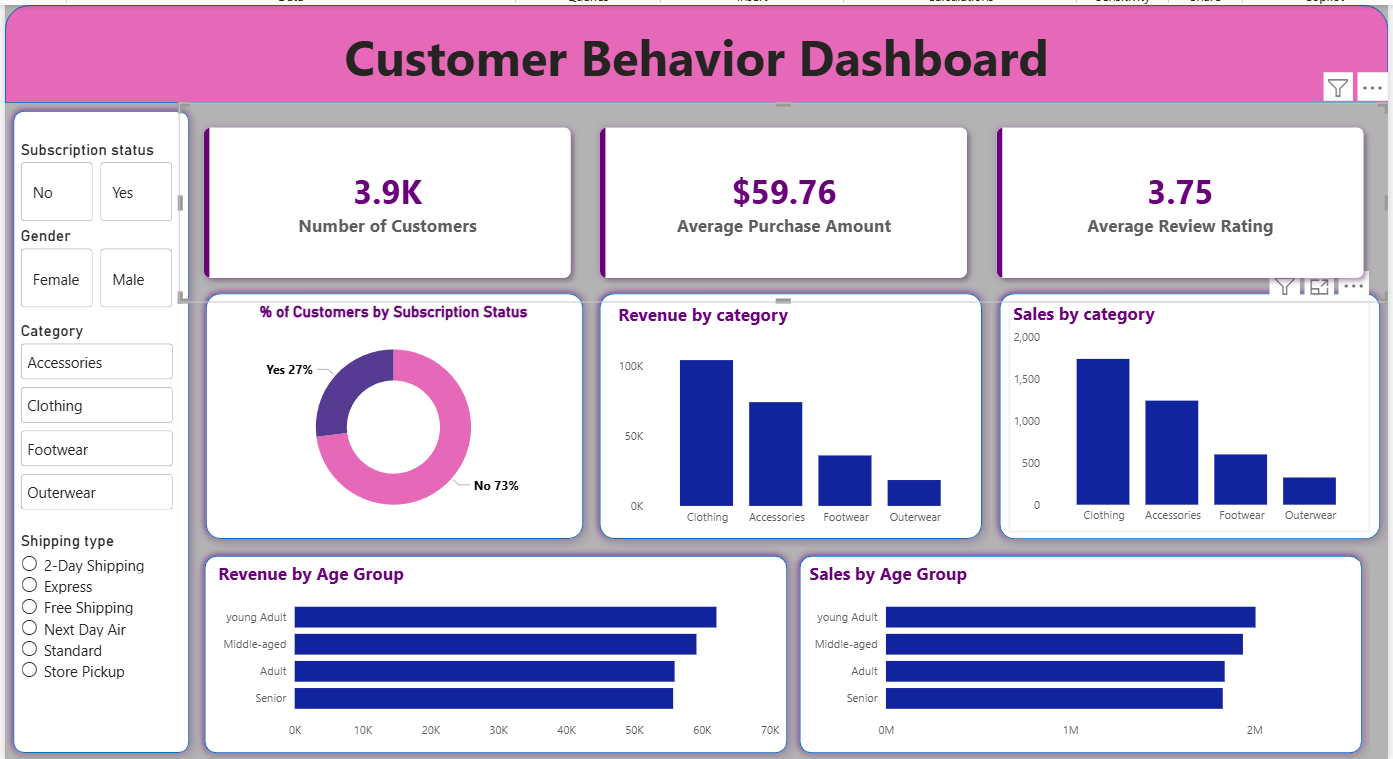

What the dashboard file says about the page in this screenshot:
{"tool":"powerbi","page":{"name":"Page 1","canvas":[1500,820],"ordinal":0},"visuals":[{"type":"cardVisual","fields":{"Data":["public customer.Number of Customers","public customer.Average Purchase Amount","public customer.Average Review Rating"]},"box":[188.2,105.8,1312.2,217.1],"z":0},{"type":"shape","box":[0,0,1500.3,106.1],"z":1000},{"type":"textbox","box":[0,14.5,1500.3,91.7],"z":2000},{"type":"shape","box":[208.8,303.7,427.3,284.4],"z":3000},{"type":"donutChart","title":"% of Customers by Subscription Status","fields":{"Category":["public customer.subscription_status"],"Y":["CountNonNull(public customer.customer_id)"]},"box":[226.7,322.9,390.2,251.4],"z":4000},{"type":"shape","box":[636.2,303.7,432.8,284.4],"z":5000},{"type":"shape","box":[1069.4,303.9,431,284.6],"z":6000},{"type":"clusteredColumnChart","title":"Revenue by category","fields":{"Y":["Sum(public customer.purchase_amount)"],"Category":["public customer.category"]},"box":[660.9,323.2,392.4,250.9],"z":7000},{"type":"clusteredColumnChart","title":"Sales by category","fields":{"Category":["public customer.category"],"Y":["CountNonNull(public customer.customer_id)"]},"box":[1088.7,321.6,392.4,250.9],"z":8000},{"type":"shape","box":[0,105.8,208.8,714.5],"z":9000},{"type":"advancedSlicerVisual","fields":{"Values":["public customer.subscription_status"]},"box":[12.4,147,175.9,93.4],"z":10000},{"type":"advancedSlicerVisual","fields":{"Values":["public customer.gender"]},"box":[12.4,240.5,175.9,93.4],"z":11000},{"type":"advancedSlicerVisual","fields":{"Values":["public customer.category"]},"box":[12.4,343.5,175.9,211.6],"z":12000},{"type":"listSlicer","fields":{"Values":["public customer.shipping_type"]},"box":[12.4,570.2,166.3,218.5],"z":13000},{"type":"shape","box":[207.5,588.1,649.9,232.2],"z":14000},{"type":"clusteredBarChart","title":"Revenue by Age Group","fields":{"Category":["public customer.age_group"],"Y":["Sum(public customer.purchase_amount)"]},"box":[226.7,603.2,618.3,202],"z":15000},{"type":"shape","box":[853.3,588.1,627.9,232.2],"z":16000},{"type":"clusteredBarChart","title":"Sales by Age Group","fields":{"Category":["public customer.age_group"],"Y":["Sum(public customer.customer_id)"]},"box":[868.4,603.2,601.8,202],"z":17000}]}

Visuals, with their boxes on the page's 1500x820 design canvas (x1, y1, x2, y2). These are canvas units, not pixel positions in the 1393x759 screenshot, which may show the page scaled, cropped or inside an application window:
cardVisual - public customer.Number of Customers x public customer.Average Purchase Amount: x1=188 y1=106 x2=1500 y2=323
shape: x1=0 y1=0 x2=1500 y2=106
textbox: x1=0 y1=14 x2=1500 y2=106
shape: x1=209 y1=304 x2=636 y2=588
"% of Customers by Subscription Status" donutChart: x1=227 y1=323 x2=617 y2=574
shape: x1=636 y1=304 x2=1069 y2=588
shape: x1=1069 y1=304 x2=1500 y2=588
"Revenue by category" clusteredColumnChart: x1=661 y1=323 x2=1053 y2=574
"Sales by category" clusteredColumnChart: x1=1089 y1=322 x2=1481 y2=572
shape: x1=0 y1=106 x2=209 y2=820
advancedSlicerVisual - public customer.subscription_status: x1=12 y1=147 x2=188 y2=240
advancedSlicerVisual - public customer.gender: x1=12 y1=240 x2=188 y2=334
advancedSlicerVisual - public customer.category: x1=12 y1=344 x2=188 y2=555
listSlicer - public customer.shipping_type: x1=12 y1=570 x2=179 y2=789
shape: x1=208 y1=588 x2=857 y2=820
"Revenue by Age Group" clusteredBarChart: x1=227 y1=603 x2=845 y2=805
shape: x1=853 y1=588 x2=1481 y2=820
"Sales by Age Group" clusteredBarChart: x1=868 y1=603 x2=1470 y2=805
